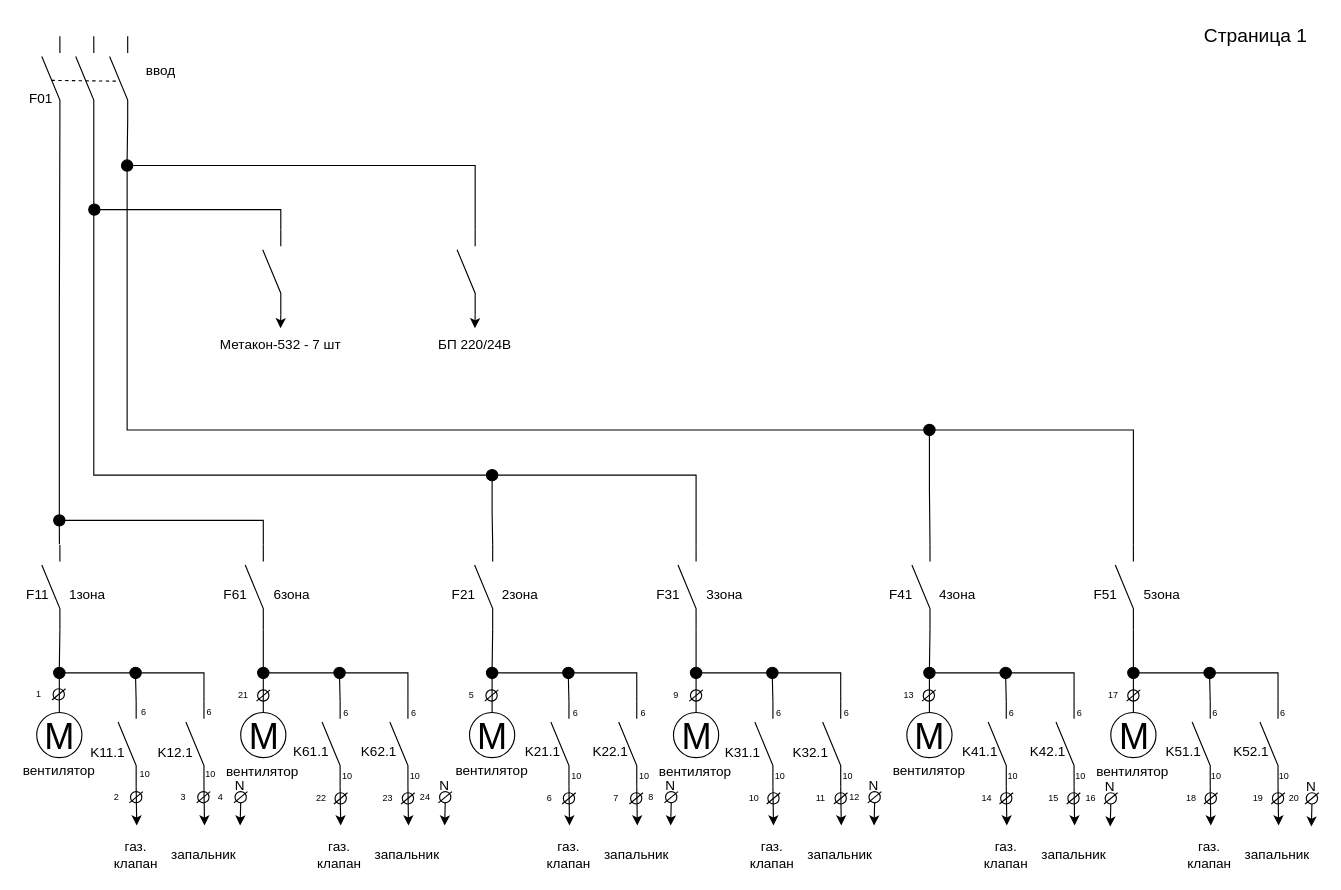
This 1341x890 diagram has some shape labels left out. Each missing label, with the box of its shape:
F02: (262, 228, 281, 314)
F03: (456, 228, 475, 314)
